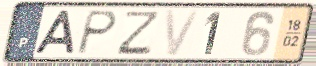1: (204, 11, 222, 56)
6: (240, 9, 276, 58)
A: (31, 9, 77, 56)
P: (74, 9, 120, 57)
V: (163, 8, 203, 58)
Z: (114, 10, 163, 56)
